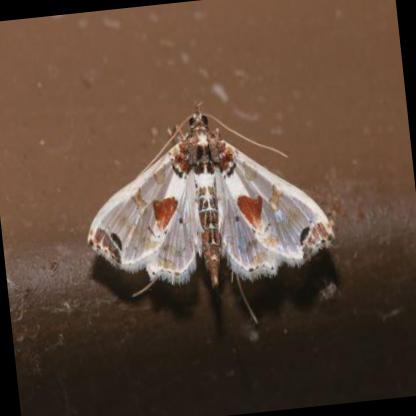leucinodes: (86, 105, 337, 293)
